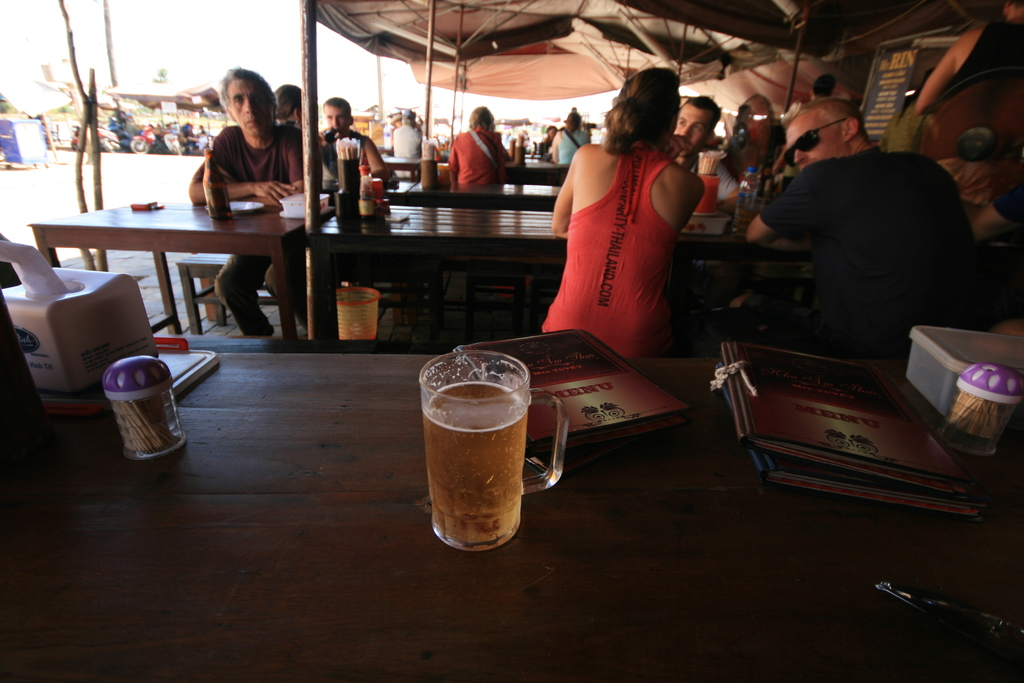Beer: (421, 379, 532, 546)
